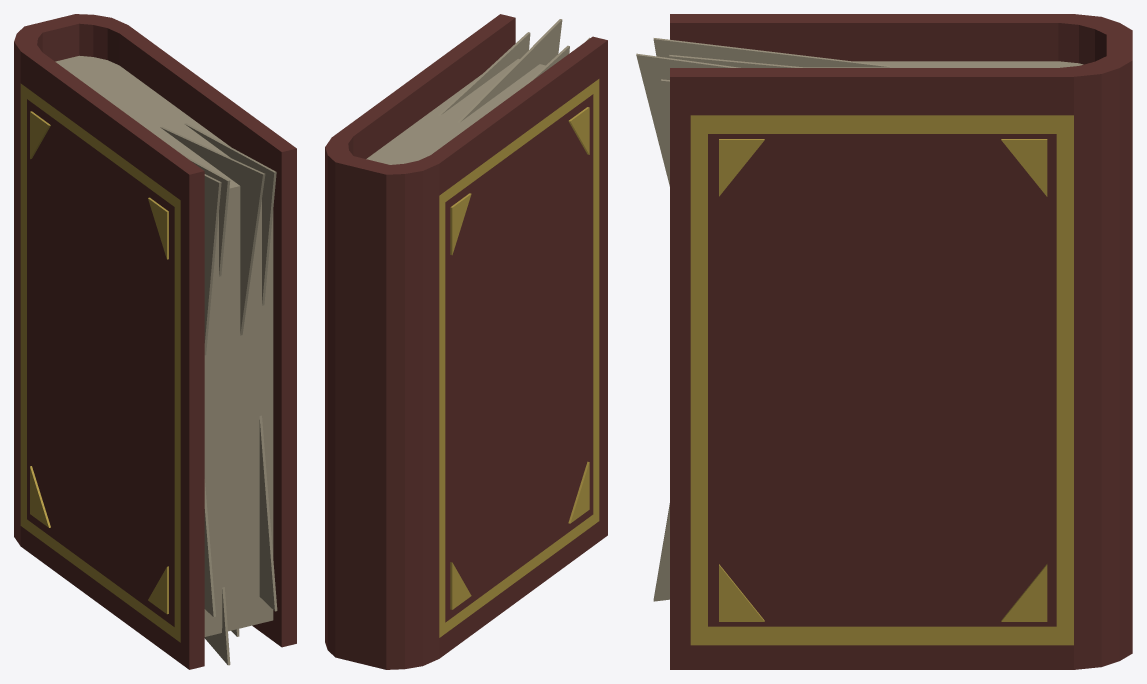
The model's file is Book2 Closed.glb.
3 renders of one model, left to right at view 1: azimuth 30°, elevation 25°; view 2: azimuth 150°, elevation 25°; view 3: azimuth 270°, elevation 25°, orthographic. The views are drawn at different scales.
Visible parts, largest first — view 1: Book2_Closed; view 2: Book2_Closed; view 3: Book2_Closed.
Boxes of the visible parts, bbox=[...] form: Book2_Closed: bbox=[14, 14, 296, 669]; Book2_Closed: bbox=[325, 14, 607, 669]; Book2_Closed: bbox=[636, 14, 1132, 669].
Size of the model in its own units: 0.0746 by 0.3208 by 0.2397.
